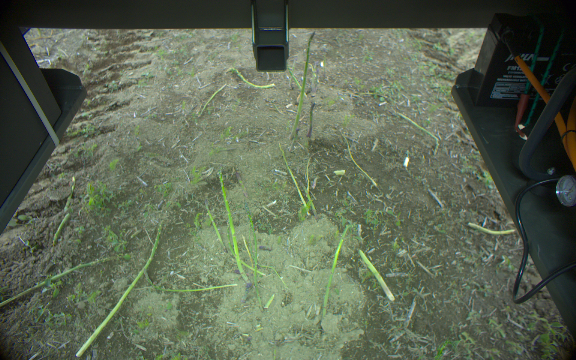aspa: (76, 218, 168, 360), (1, 255, 117, 307), (214, 171, 249, 286), (290, 28, 316, 138), (320, 223, 348, 314), (275, 143, 308, 217), (358, 248, 397, 306), (203, 200, 227, 254), (225, 64, 274, 90), (49, 210, 72, 247), (60, 174, 77, 211), (307, 101, 319, 145)
